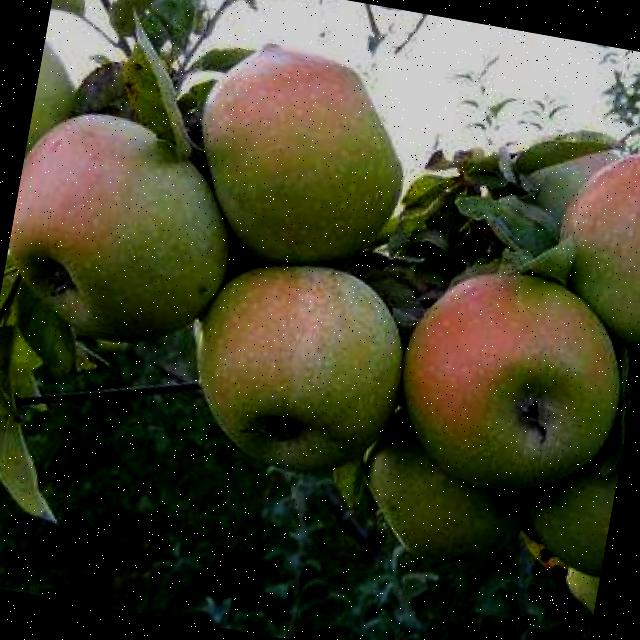apple: (143, 211, 436, 526), (348, 224, 640, 521), (0, 95, 270, 379), (172, 10, 438, 296), (328, 376, 544, 616), (531, 118, 640, 364), (488, 425, 623, 586), (13, 15, 110, 226), (507, 100, 640, 230)
